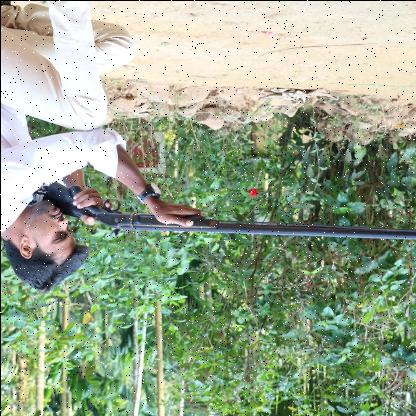rifle: (30, 179, 416, 240)
